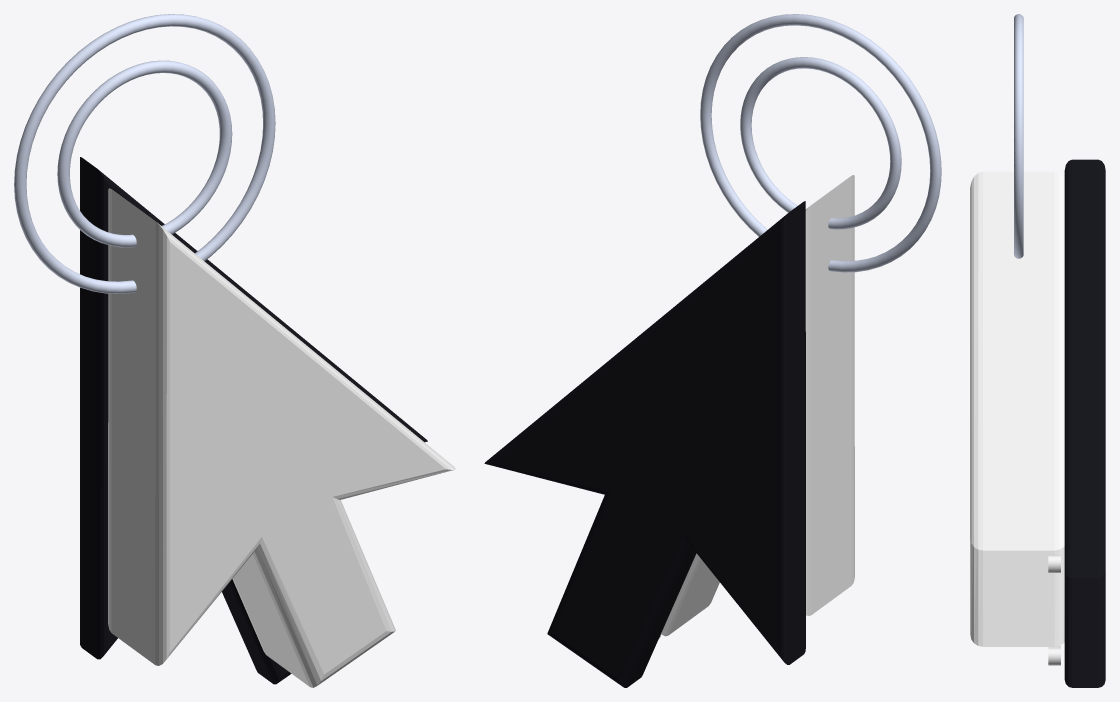
File: work.glb
3 renders of one model, left to right at view 1: azimuth 30°, elevation 25°; view 2: azimuth 150°, elevation 25°; view 3: azimuth 270°, elevation 25°, orthographic. The views are drawn at different scales.
Parts seen in each view (by area): view 1: chrome_arrow, dark_plate, glass_ripple; view 2: dark_plate, chrome_arrow, glass_ripple; view 3: chrome_arrow, dark_plate, glass_ripple, chrome_bolts.
Boxes of the visible parts, x1,y1,x2,y2 form: chrome_arrow: (108,188,455,687); dark_plate: (80,157,427,684); glass_ripple: (14,14,275,293); dark_plate: (484,201,805,687); chrome_arrow: (661,175,854,636); glass_ripple: (700,14,941,272); chrome_arrow: (970,171,1064,646); dark_plate: (1064,159,1105,687); glass_ripple: (1014,14,1023,258); chrome_bolts: (1048,555,1060,665).
Size of the model in its own units: 1.64 by 2.58 by 0.53.
